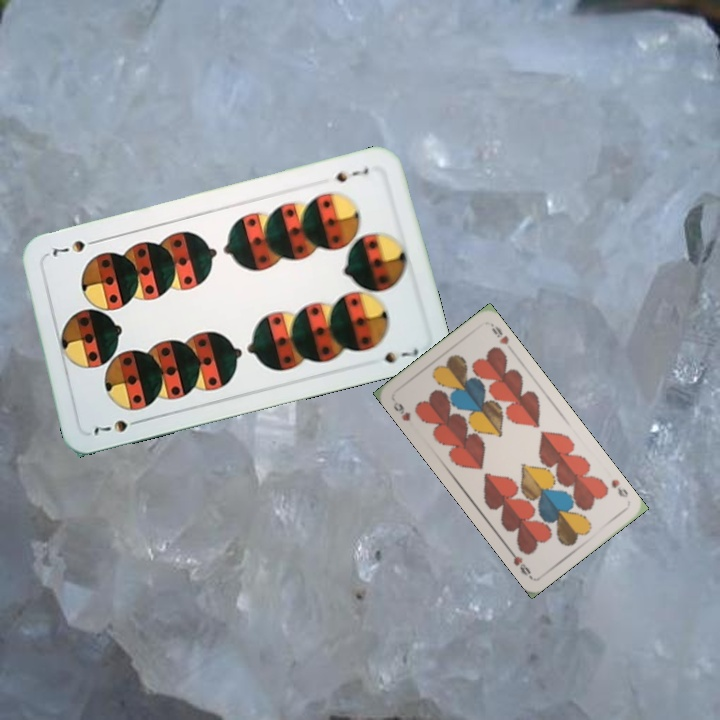H9: (389, 398, 414, 424), (607, 475, 631, 500)
S7: (87, 415, 145, 439), (329, 163, 372, 185)
